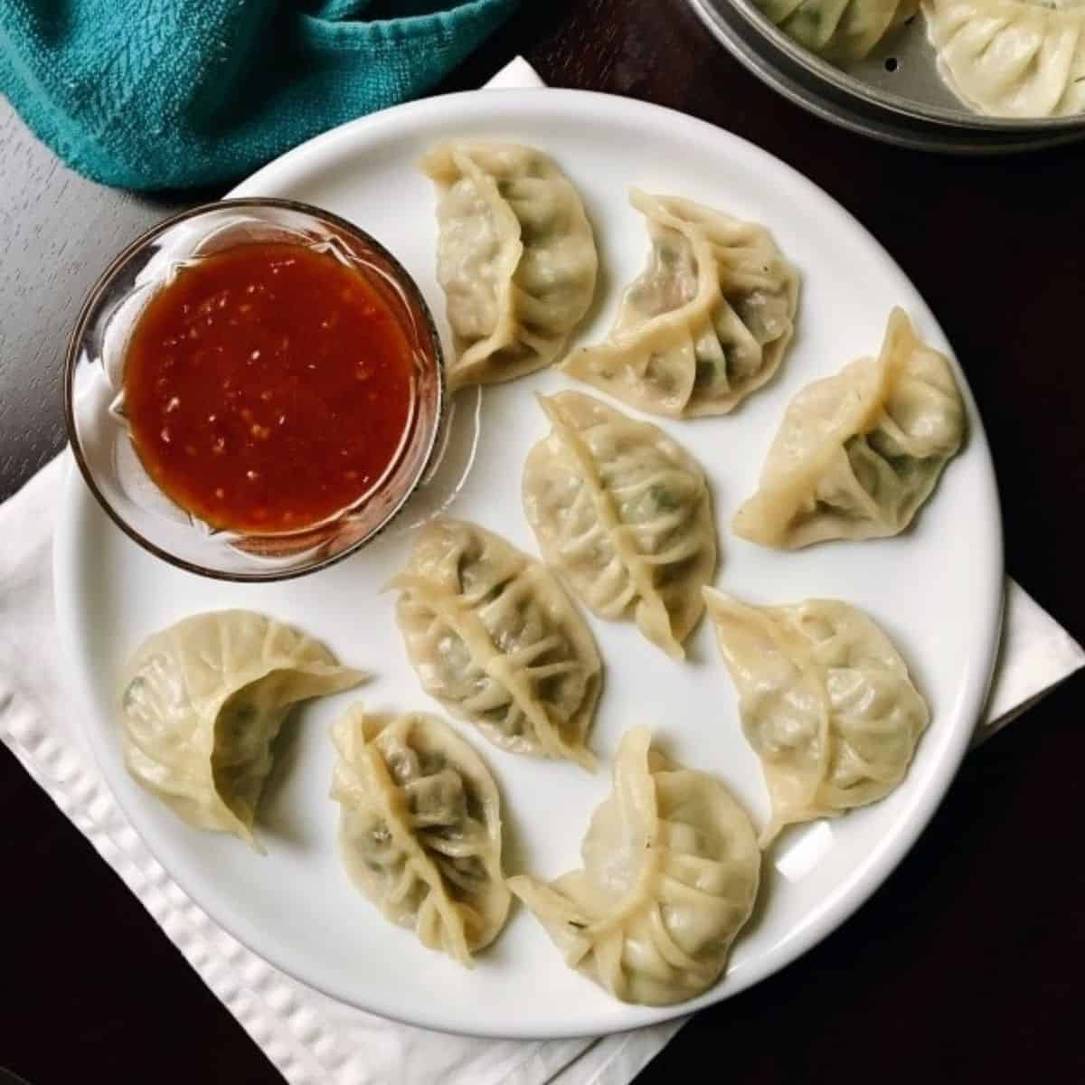momo: (522, 726, 764, 1001), (703, 579, 938, 836), (115, 601, 371, 834), (384, 515, 615, 773), (739, 310, 983, 549), (518, 396, 730, 665), (321, 705, 527, 967), (558, 179, 802, 400), (434, 140, 592, 396)
